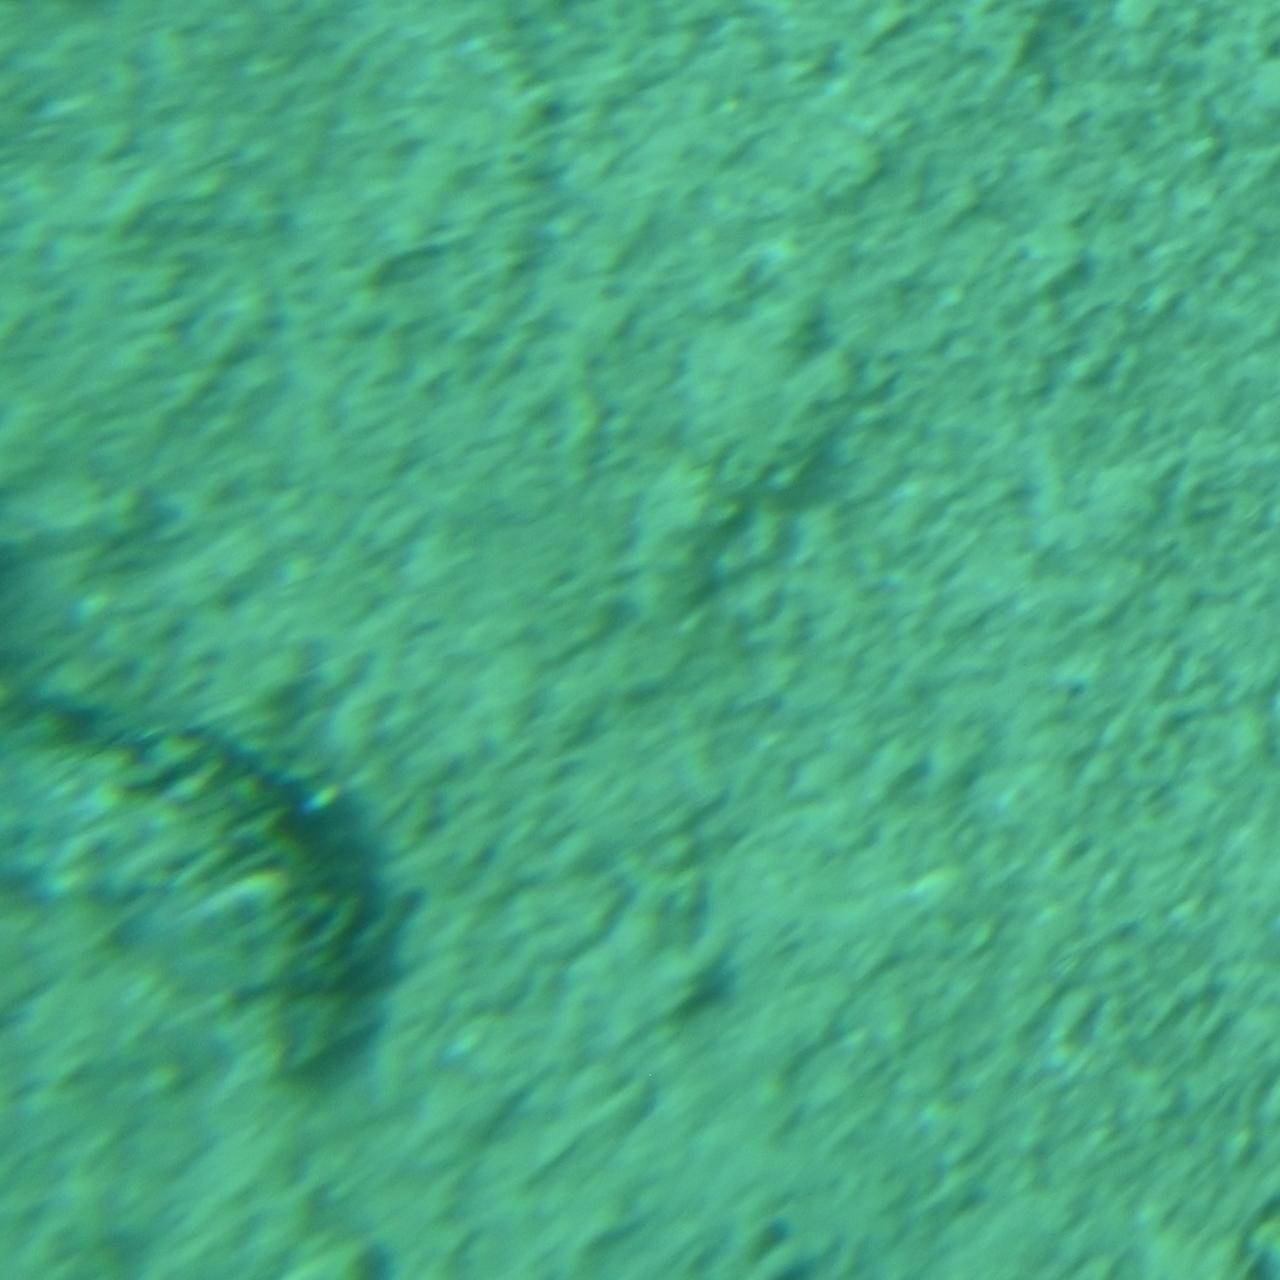Holothuria tubulosa: (0, 627, 415, 1095)
